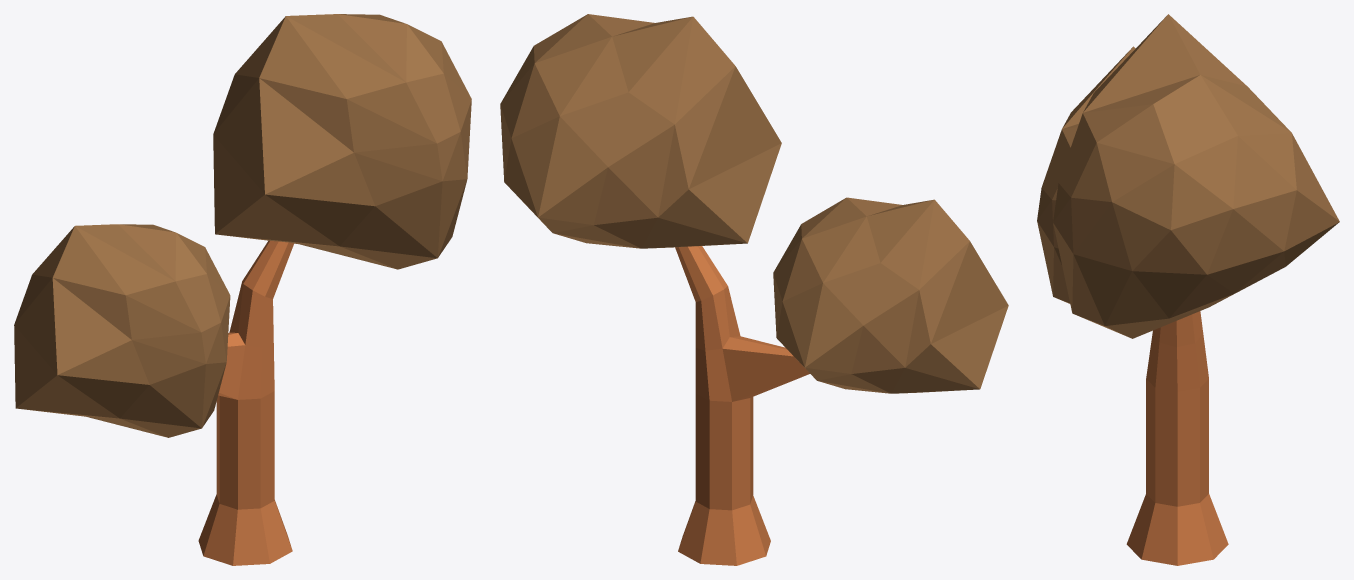
Rendered from SmallTree2.fbx.
3 views of the same model, side by side, from view 1: azimuth 30°, elevation 25°; view 2: azimuth 150°, elevation 25°; view 3: azimuth 270°, elevation 25° (orthographic). The views are drawn at different scales.
Visible parts, largest first — view 1: Cylinder.000; view 2: Cylinder.000; view 3: Cylinder.000.
Part boxes in pixels (x1,y1,x2,y2): Cylinder.000: (14,14,471,565); Cylinder.000: (500,14,1008,565); Cylinder.000: (1037,14,1339,565).
Size of the model in its own units: 456 by 499 by 250.
